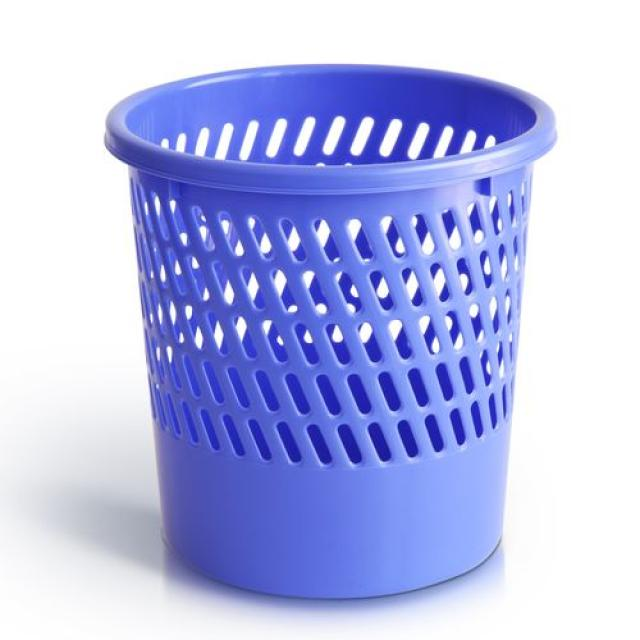dustbin: (101, 55, 565, 607)
